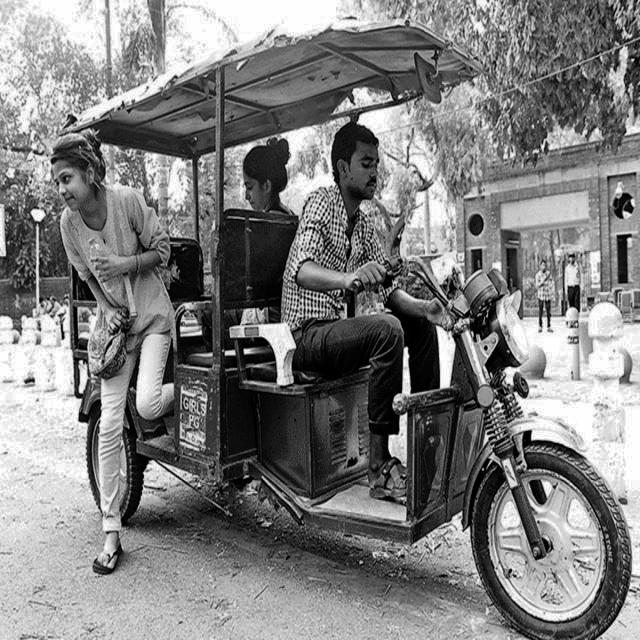Toto: (58, 13, 622, 640)
